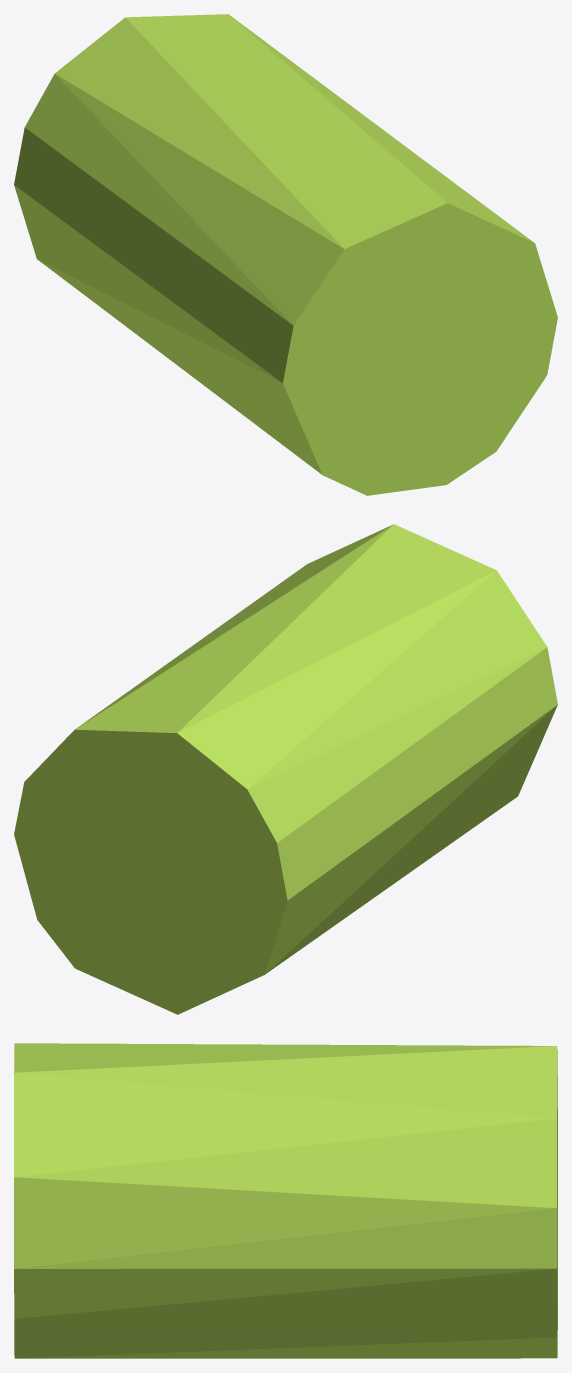
File: UR3_link_2_coll_1.dae
3 views of the same model, one above another, from view 1: azimuth 30°, elevation 25°; view 2: azimuth 150°, elevation 25°; view 3: azimuth 270°, elevation 25° (orthographic).
Parts seen in each view (by area): view 1: Node_000002D0E99FA340; view 2: Node_000002D0E99FA340; view 3: Node_000002D0E99FA340.
Part boxes in pixels (x1,y1,x2,y2): Node_000002D0E99FA340: (14,14,557,495); Node_000002D0E99FA340: (14,524,557,1014); Node_000002D0E99FA340: (14,1043,557,1358).
Size of the model in its own units: 0.0667 by 0.0653 by 0.1132.
